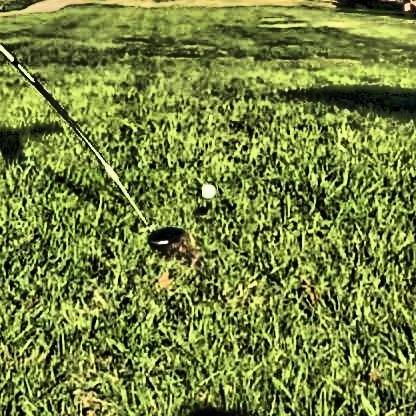golfball: (198, 180, 215, 197)
